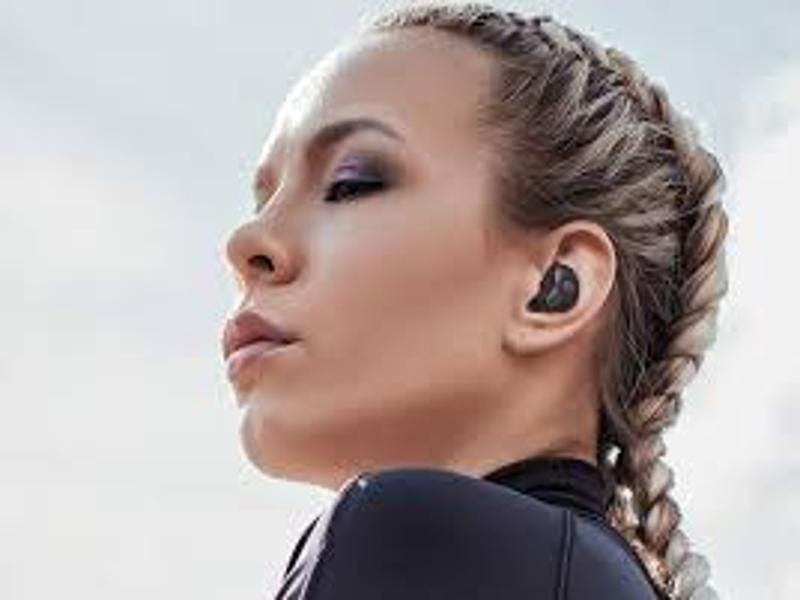headphone: (529, 263, 580, 318)
